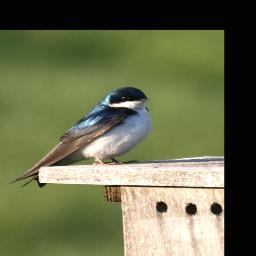Swallow: (8, 85, 155, 194)
